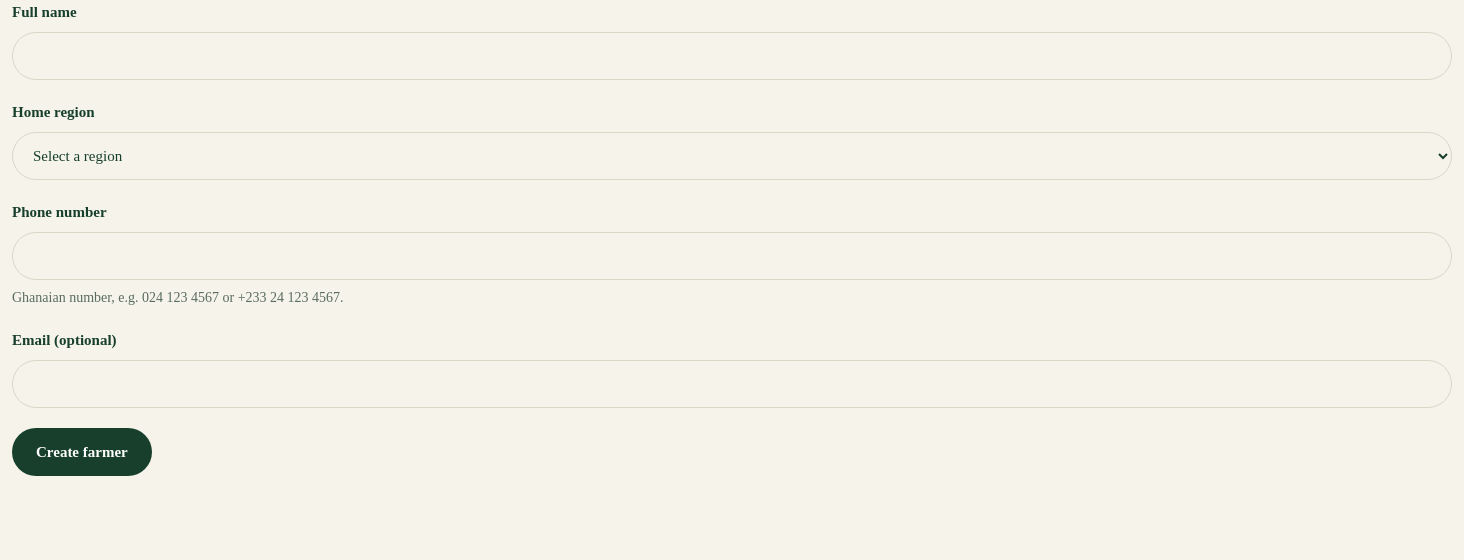
Test: CreateFarmerForm › shows the server message when the farmer already exists
Type "Ama Mensah" into the field labelled "Full name".
click(732, 56); type("Ama Mensah")  # box [12,32,1452,80]
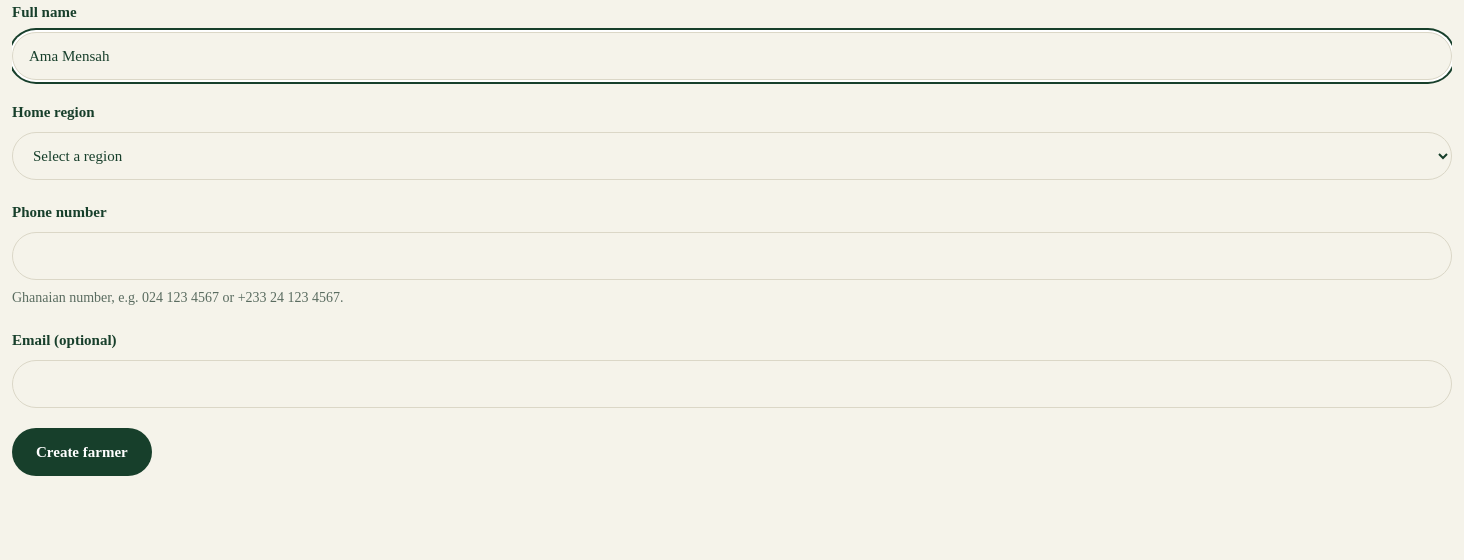
Select "Ashanti" in the dropdown labelled "Home region" at (732, 156), box [12,132,1452,180]
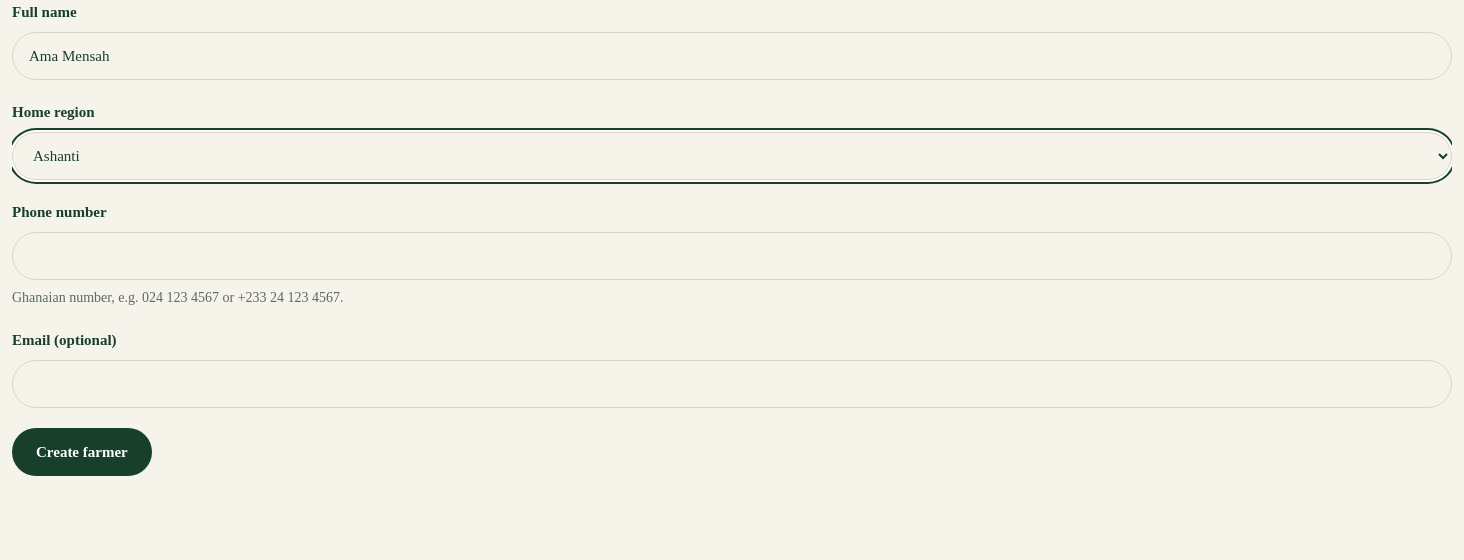
Type "024 123 4567" into the field labelled "Phone number".
click(732, 256); type("024 123 4567")  # box [12,232,1452,280]
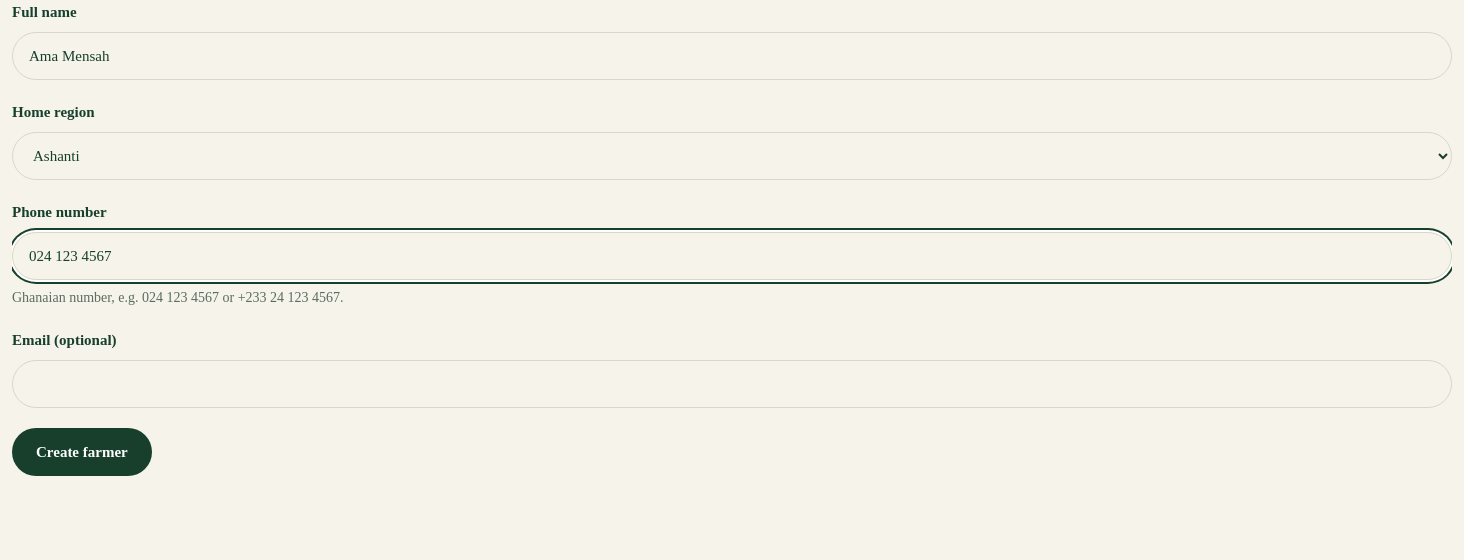
Type "ama@test.com" into the field labelled "Email (optional)".
click(732, 384); type("ama@test.com")  # box [12,360,1452,408]
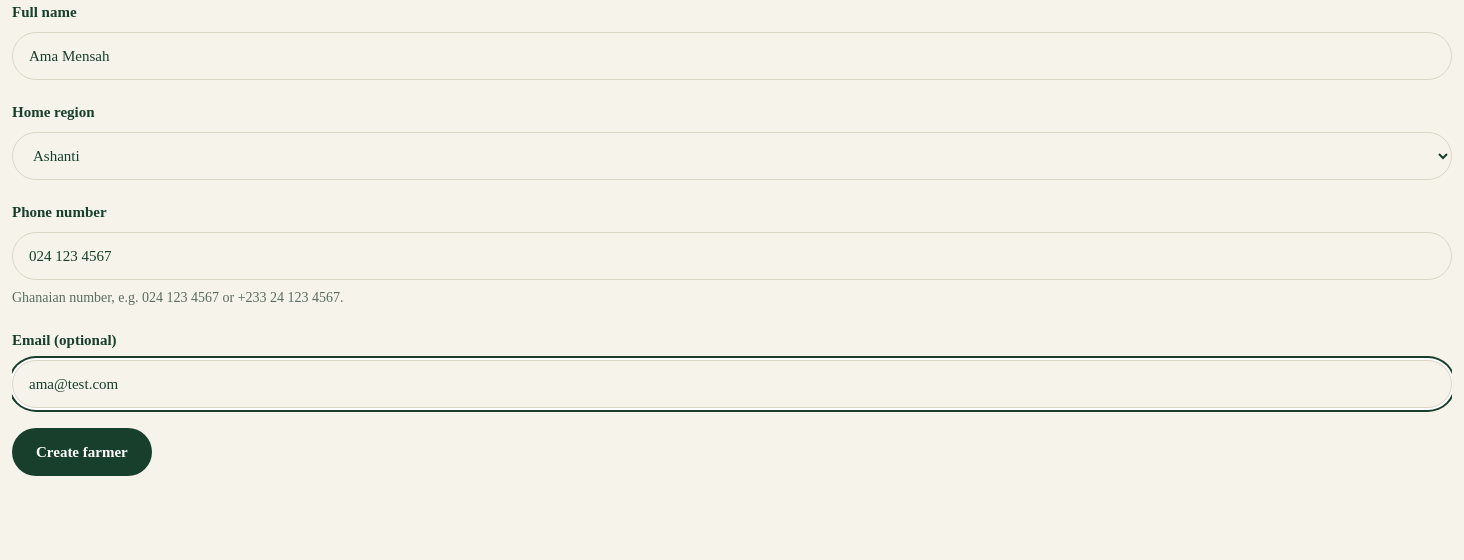
Click the button "Create farmer".
click(82, 452)  # box [12,428,152,476]
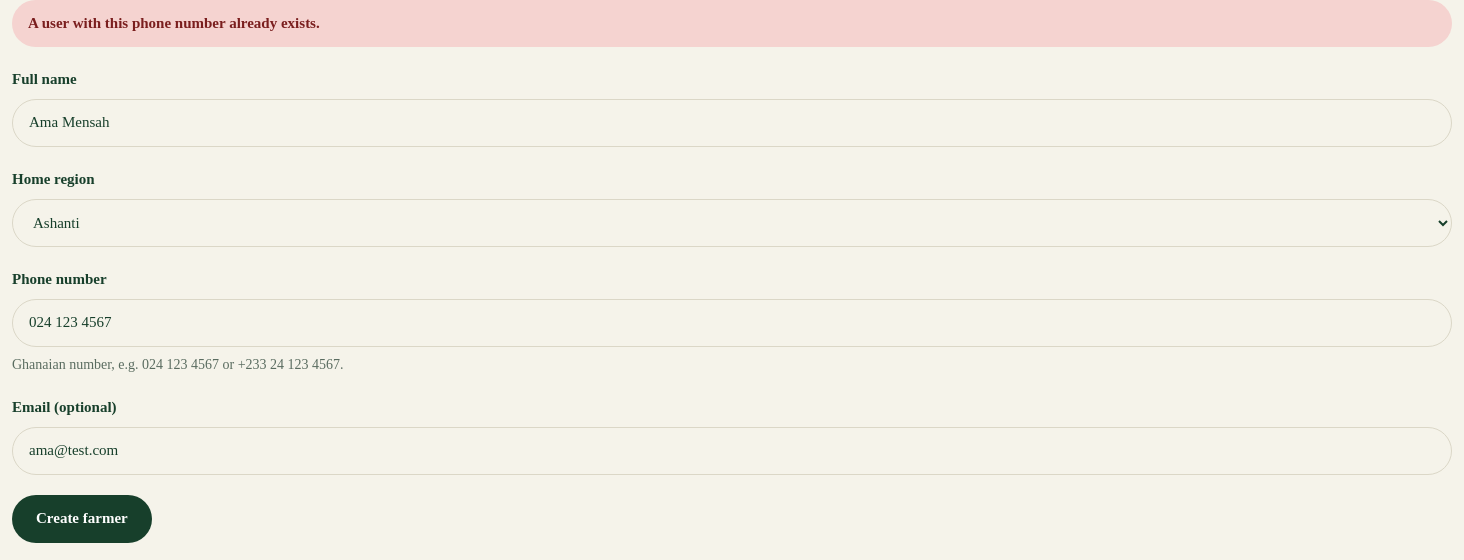
Expected: the button "Create farmer" is enabled, [12,494,152,542]
Now the message reads "A user with this phone number already exists.", box [28,15,320,31]
